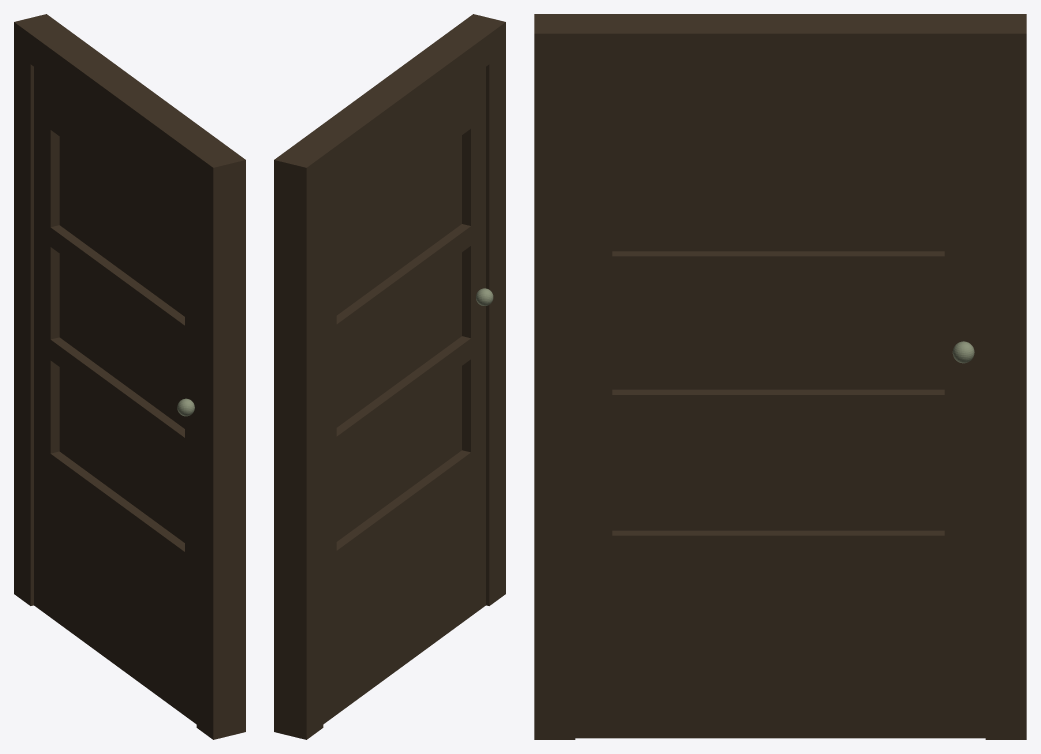
File: drzwi_p1.fbx
The picture shows the model from 3 angles, left to right: view 1: azimuth 30°, elevation 25°; view 2: azimuth 150°, elevation 25°; view 3: azimuth 270°, elevation 25°; orthographic projection. The views are drawn at different scales.
Parts seen in each view (by area): view 1: Cube.001, Cube; view 2: Cube.001, Cube; view 3: Cube.001, Cube.
Part boxes in pixels (x1,y1,x2,y2): Cube.001: (34,67,196,724); Cube: (14,14,245,739); Cube.001: (323,67,493,724); Cube: (274,14,505,739); Cube.001: (575,70,985,738); Cube: (534,14,1026,739).
Bounding box in the file's own units: 187 × 1900 × 1200.
